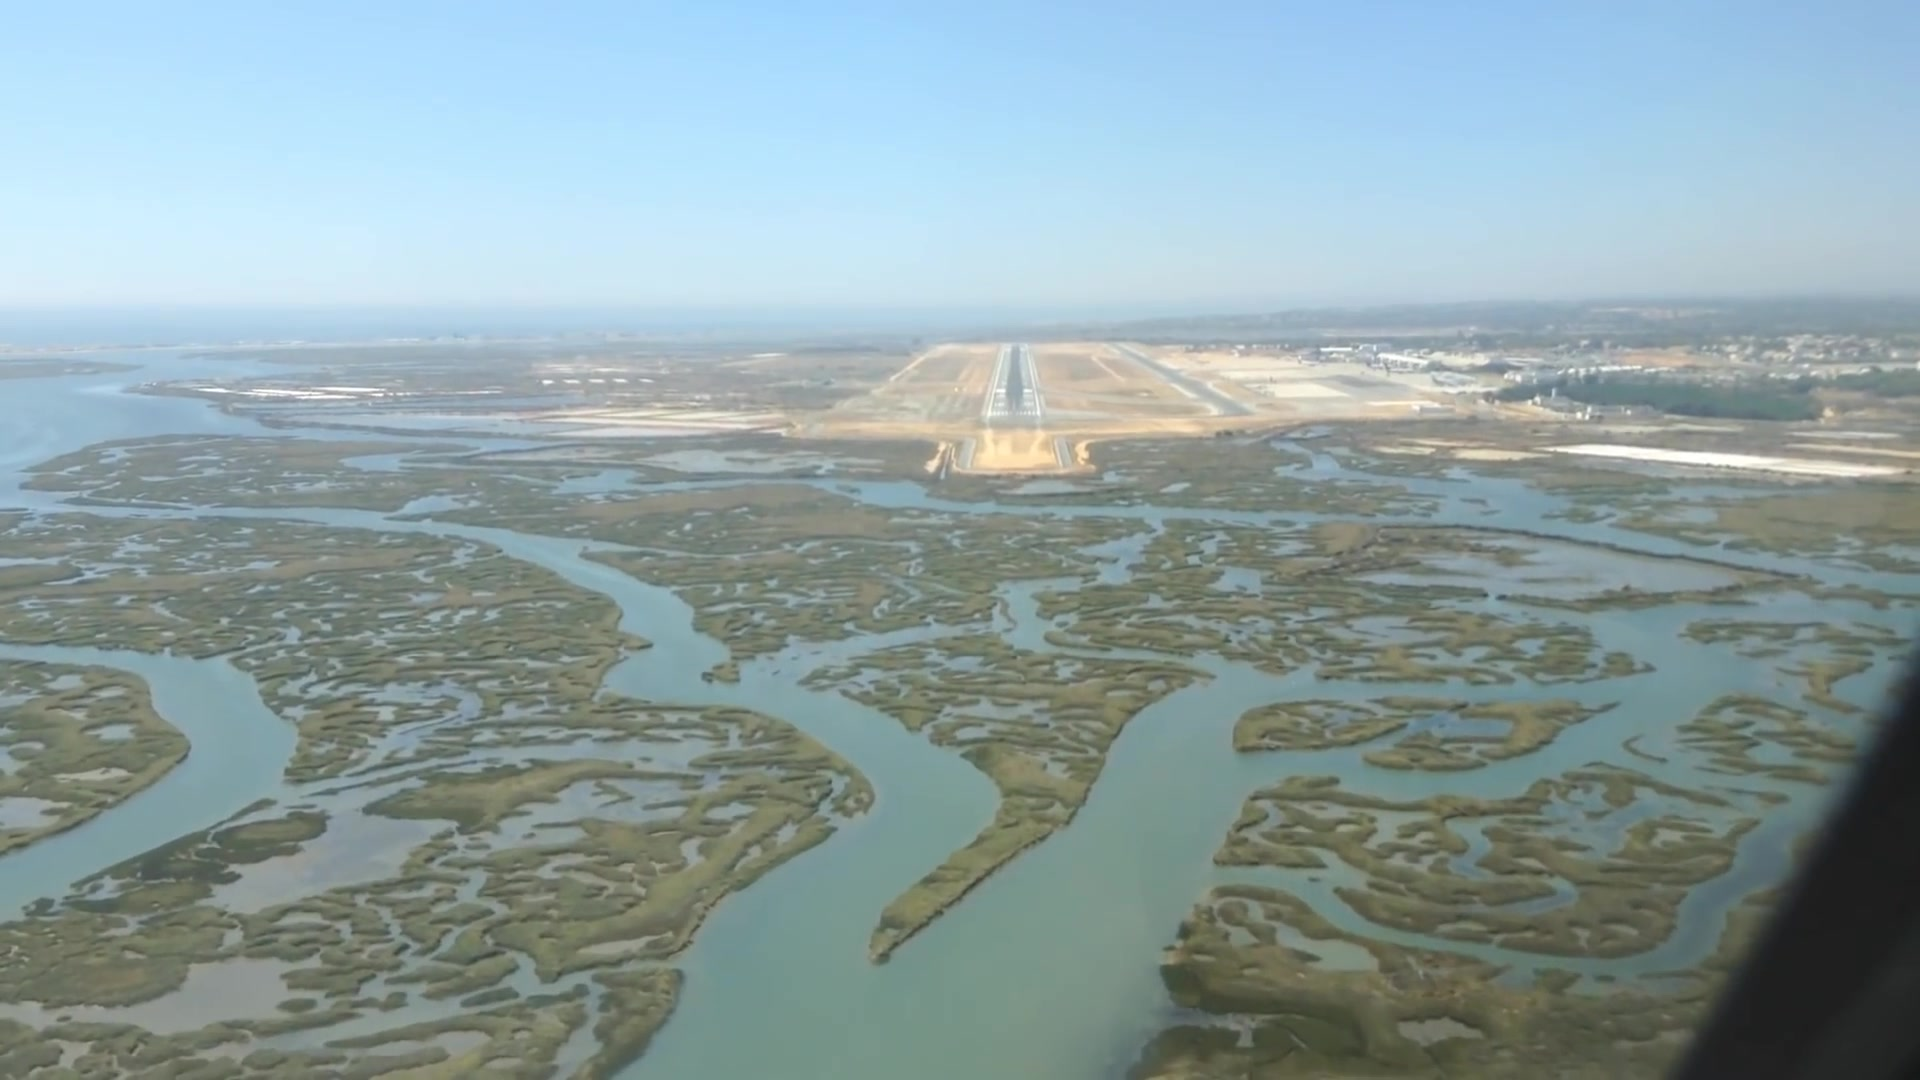entrance: (990, 407, 1038, 415)
runway: (984, 342, 1044, 425)
